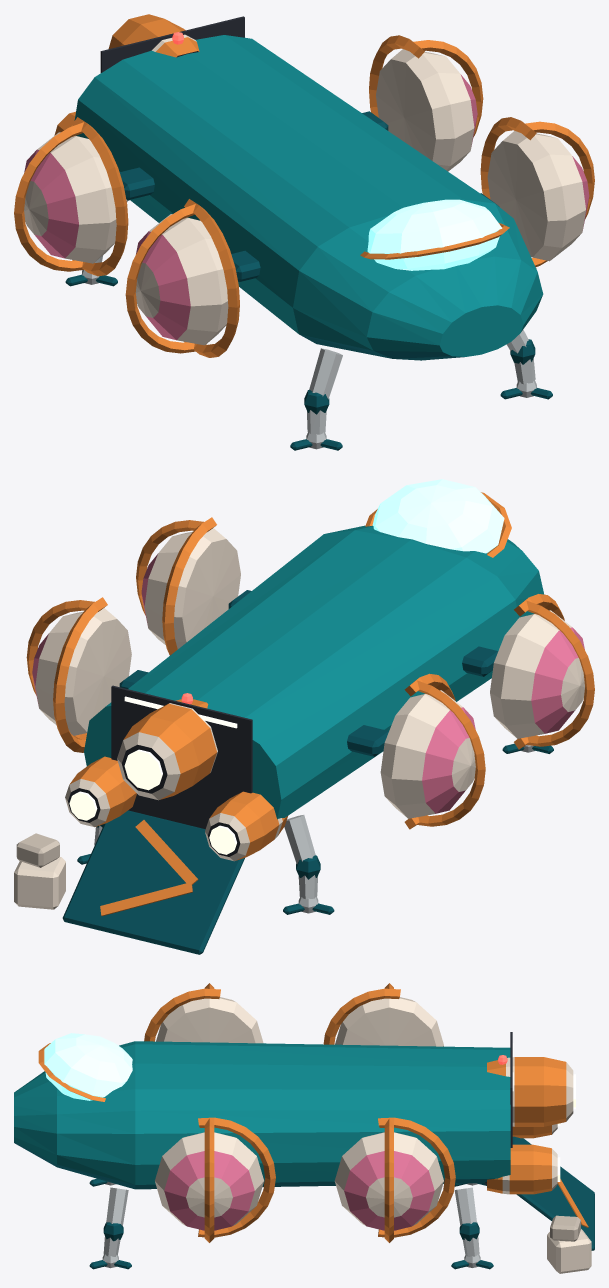
File: cor-f_offen.glb
The picture shows the model from 3 angles, top to bottom: view 1: azimuth 30°, elevation 25°; view 2: azimuth 150°, elevation 25°; view 3: azimuth 270°, elevation 25°; orthographic projection. The views are drawn at different scales.
Parts seen in each view (by area): view 1: rumpf, frachtschale_1, frachtschale_3, frachtschale_4, frachtschale_2, cockpit, schutzbügel_4, schutzbügel_3, landebein_2, schutzbügel_1, schutzbügel_2, triebwerk_m (+4 smaller); view 2: rumpf, rampe, frachtschale_4, frachtschale_3, laderaum, frachtschale_2, cockpit, frachtschale_1, triebwerk_m, triebwerk_r, triebwerk_l, ladung (+7 smaller); view 3: rumpf, frachtschale_2, frachtschale_1, cockpit, triebwerk_m, frachtschale_4, frachtschale_3, schutzbügel_1, schutzbügel_2, triebwerk_l, rampe, ladung (+5 smaller).
Boxes of the visible parts, x1,y1,x2,y2 form: rumpf: (74, 35, 543, 360); frachtschale_1: (487, 131, 589, 261); frachtschale_3: (135, 214, 228, 345); frachtschale_4: (24, 132, 116, 263); frachtschale_2: (376, 49, 477, 171); cockpit: (360, 199, 509, 270); schutzbügel_4: (14, 117, 128, 276); schutzbügel_3: (125, 199, 239, 357); landebein_2: (290, 348, 342, 450); schutzbügel_1: (480, 117, 594, 268); schutzbügel_2: (369, 35, 483, 137); triebwerk_m: (108, 14, 199, 57); rumpf: (84, 525, 544, 819); rampe: (62, 810, 244, 954); frachtschale_4: (380, 690, 475, 818); frachtschale_3: (490, 610, 584, 738); laderaum: (111, 685, 252, 829); frachtschale_2: (32, 608, 131, 735); cockpit: (365, 479, 511, 557); frachtschale_1: (141, 528, 240, 648); triebwerk_m: (117, 699, 217, 800); triebwerk_r: (205, 791, 287, 861); triebwerk_l: (65, 756, 136, 827); ladung: (14, 833, 65, 909); rumpf: (14, 1041, 510, 1189); frachtschale_2: (334, 1132, 443, 1230); frachtschale_1: (155, 1132, 263, 1230); cockpit: (38, 1033, 132, 1101); triebwerk_m: (487, 1057, 575, 1126); frachtschale_4: (335, 997, 443, 1046); frachtschale_3: (156, 997, 263, 1043); schutzbügel_1: (198, 1117, 275, 1242); schutzbügel_2: (378, 1117, 455, 1242); triebwerk_l: (485, 1144, 560, 1194); rampe: (512, 1136, 594, 1250); ladung: (547, 1215, 591, 1273).
Size of the model in its own units: 0.1395 by 0.0652 by 0.1857.
